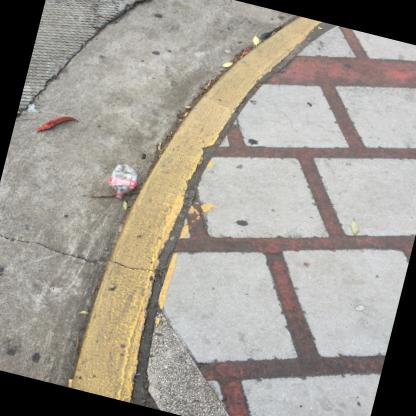Paper: (69, 380, 73, 387), (183, 112, 187, 117)
Plastic: (108, 165, 137, 200)
